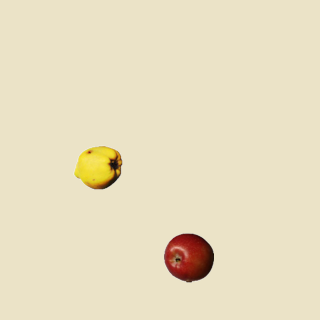Apple Braeburn: (163, 232, 213, 282)
Quince: (72, 142, 122, 192)
